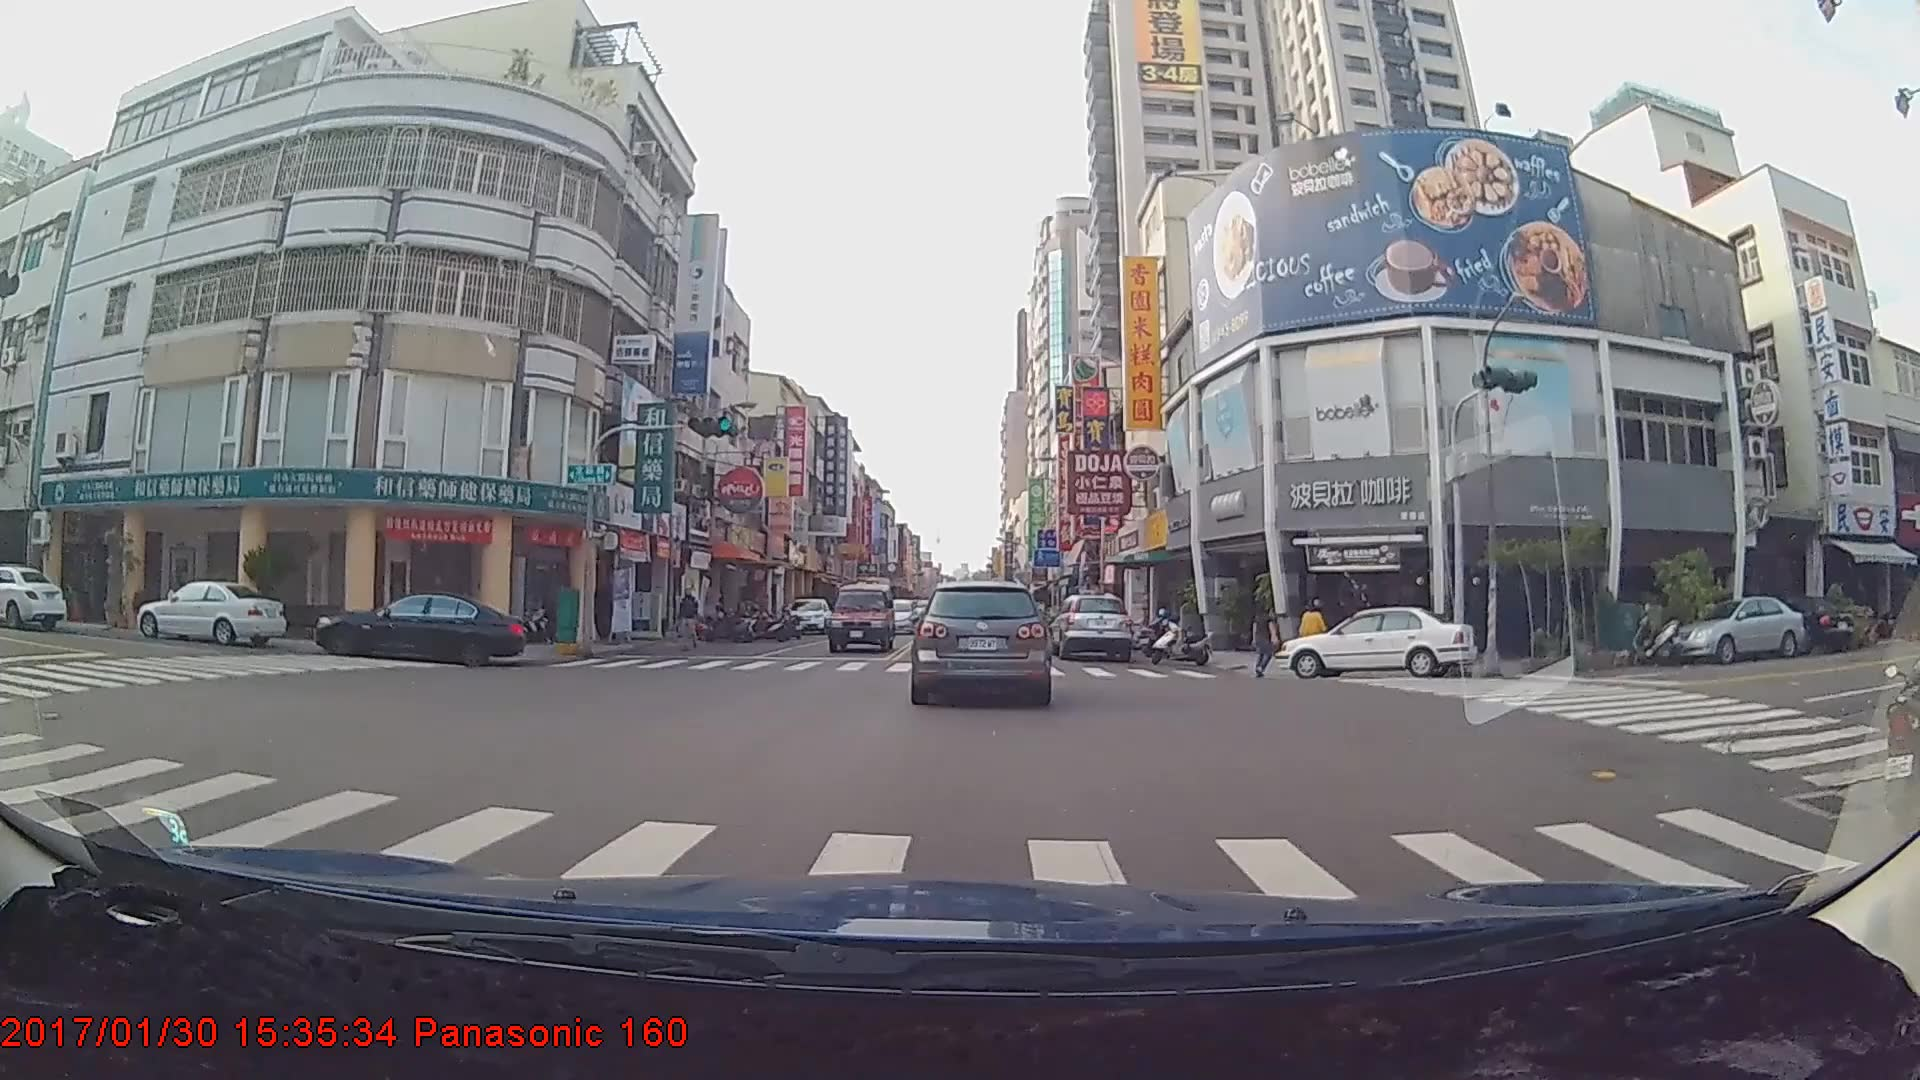pedestrian: (1250, 596, 1280, 677), (1297, 597, 1329, 673), (677, 586, 703, 649)
vehicle: (913, 581, 1049, 703), (312, 590, 526, 666), (1279, 602, 1476, 676), (136, 578, 286, 649), (1670, 592, 1806, 661), (1050, 587, 1132, 657), (826, 579, 895, 651), (0, 562, 70, 631), (784, 594, 831, 634)
